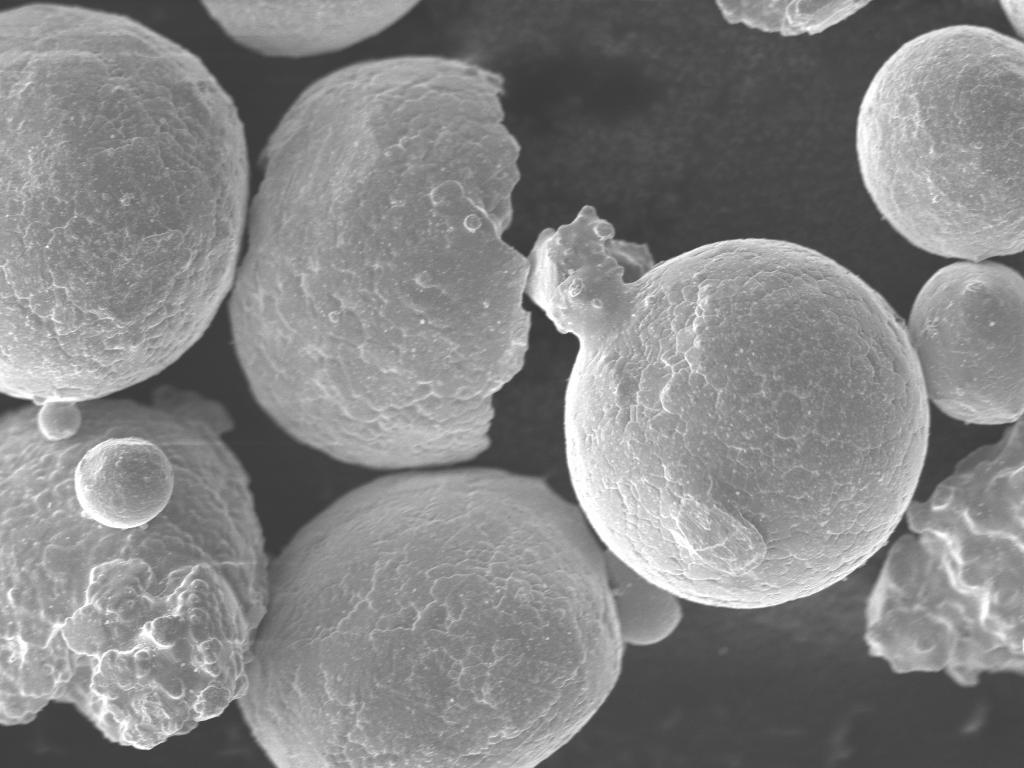Powder: (526, 206, 930, 608), (240, 468, 680, 766), (230, 56, 530, 469), (0, 4, 248, 440), (0, 386, 268, 748), (866, 418, 1024, 686), (856, 26, 1024, 261), (908, 262, 1024, 424), (202, 1, 418, 57), (716, 1, 870, 36), (1000, 0, 1024, 37)
